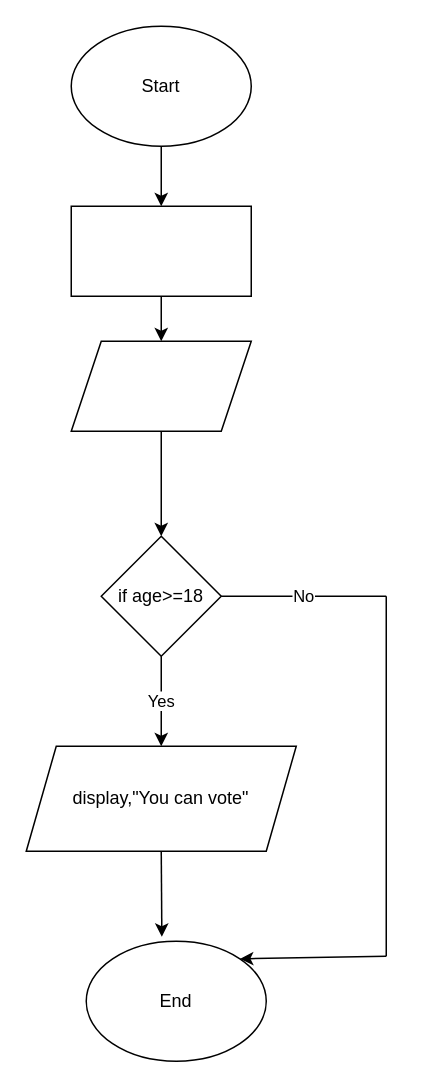
Image size: 425x1088. Some labels were removed from this diagram. Each missing label, with the centre of its shape:
"age=0" belongs at pixel 160 250.
"Input age" belongs at pixel 160 385.
